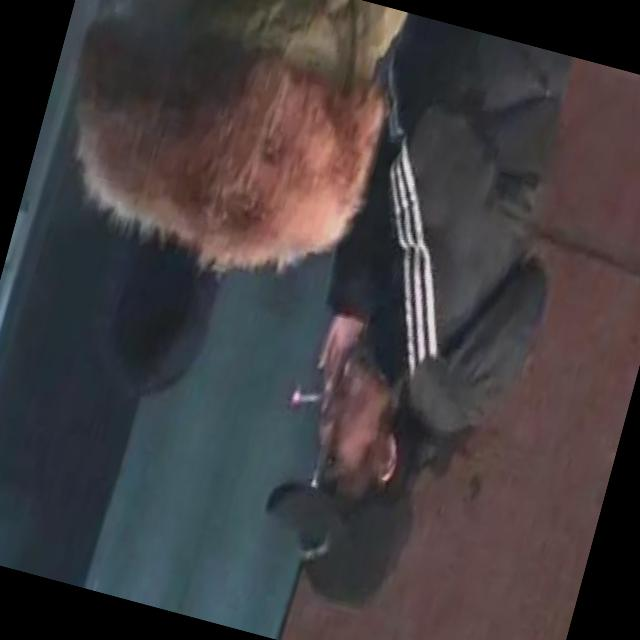smoke: (281, 364, 342, 425)
